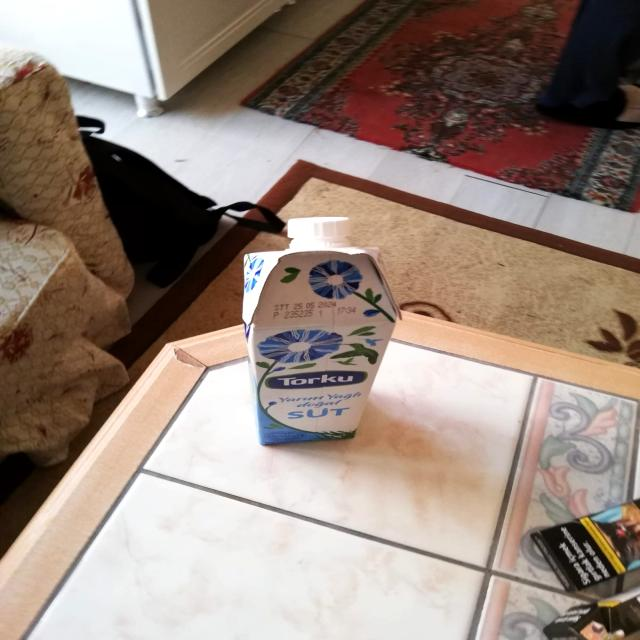milk: (216, 204, 408, 457)
